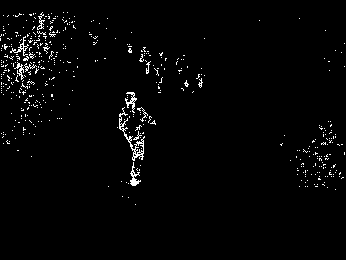person: (119, 89, 157, 189)
